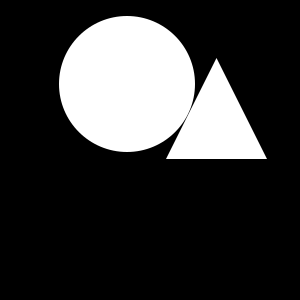rectangle: (59, 16, 195, 152)
triangle: (166, 58, 267, 159)
